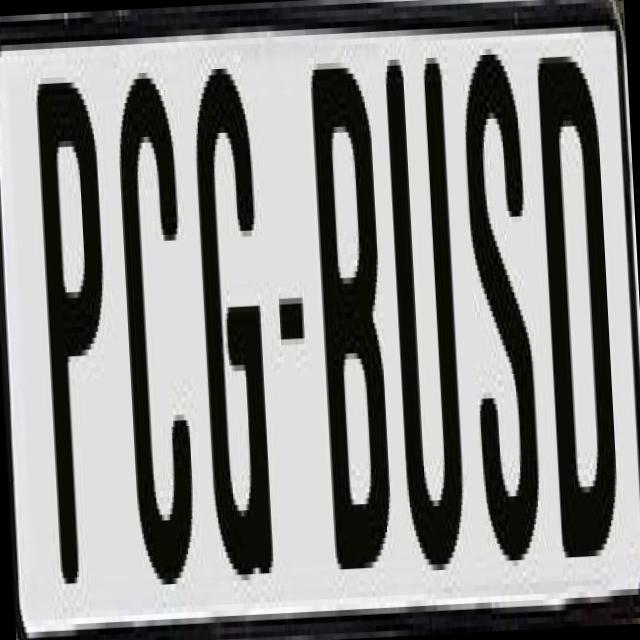B: (310, 66, 398, 586)
C: (110, 66, 192, 592)
D: (533, 49, 621, 564)
G: (187, 61, 280, 611)
P: (35, 75, 121, 596)
S: (461, 35, 552, 579)
U: (384, 40, 470, 554)
